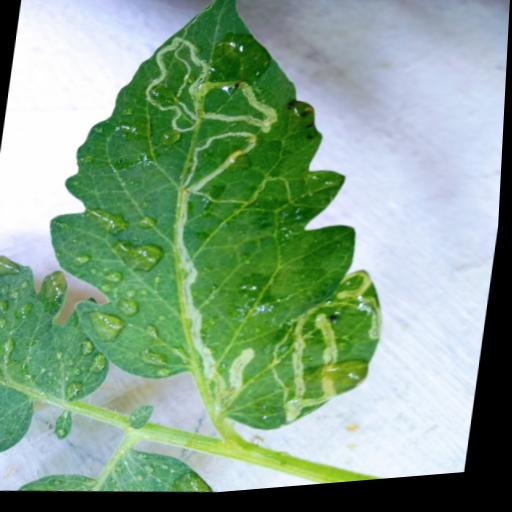Leaf_Miner: (20, 0, 432, 461)
